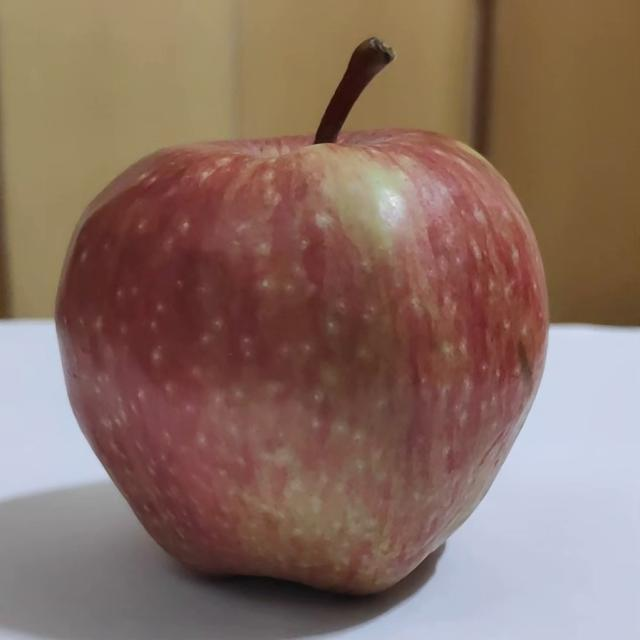apple: (22, 28, 610, 628)
